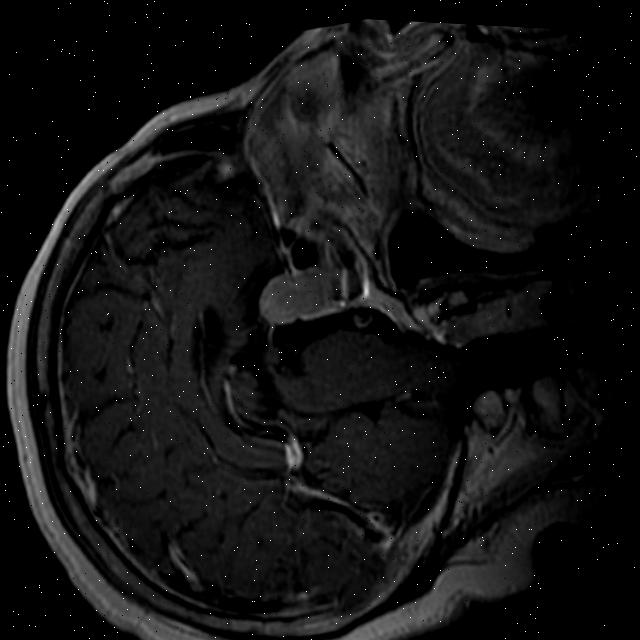Pituitary: (251, 258, 342, 332)
